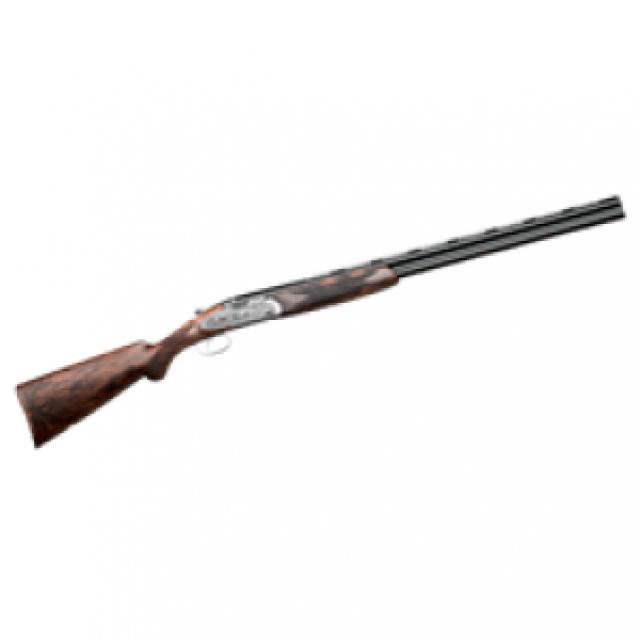rifle: (12, 181, 634, 456)
